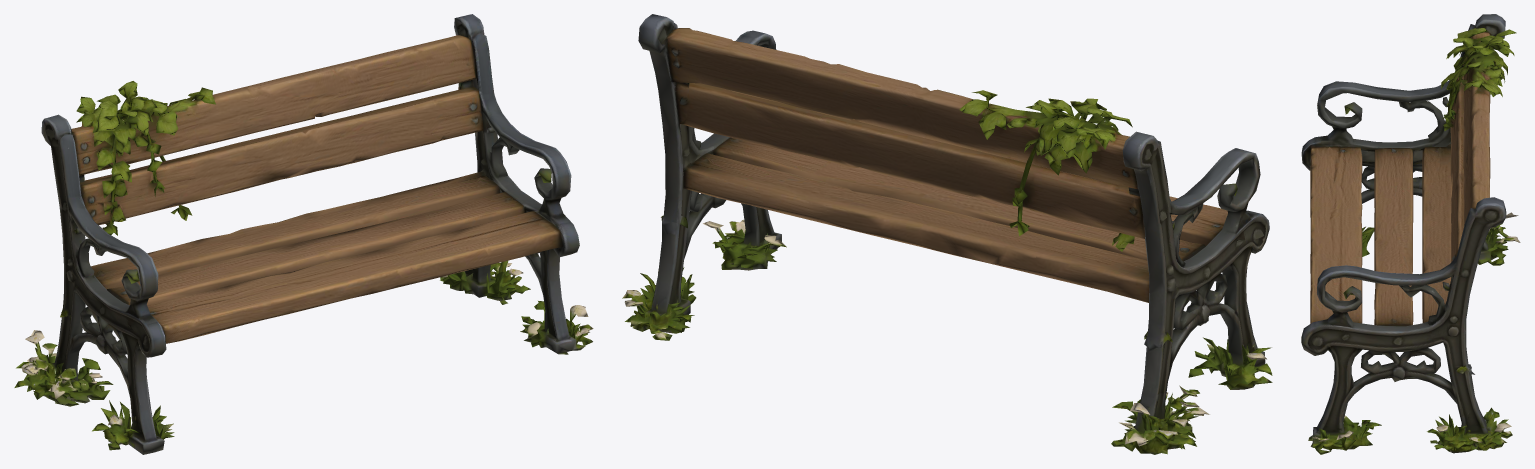
Rendered from bench.glb.
The picture shows the model from 3 angles, left to right: view 1: azimuth 30°, elevation 25°; view 2: azimuth 150°, elevation 25°; view 3: azimuth 270°, elevation 25°; orthographic projection. The views are drawn at different scales.
Visible parts, largest first — view 1: tripo_node_0d1730af-e14f-4d3e-af8a-0e73386a8d61; view 2: tripo_node_0d1730af-e14f-4d3e-af8a-0e73386a8d61; view 3: tripo_node_0d1730af-e14f-4d3e-af8a-0e73386a8d61.
Boxes of the visible parts, left/top/right/bottom form: tripo_node_0d1730af-e14f-4d3e-af8a-0e73386a8d61: left=14, top=14, right=593, bottom=454; tripo_node_0d1730af-e14f-4d3e-af8a-0e73386a8d61: left=622, top=14, right=1272, bottom=454; tripo_node_0d1730af-e14f-4d3e-af8a-0e73386a8d61: left=1301, top=14, right=1520, bottom=454.
Size of the model in its own units: 1 by 0.5327 by 0.4197.
Materials: 1 (1 with a texture image).
